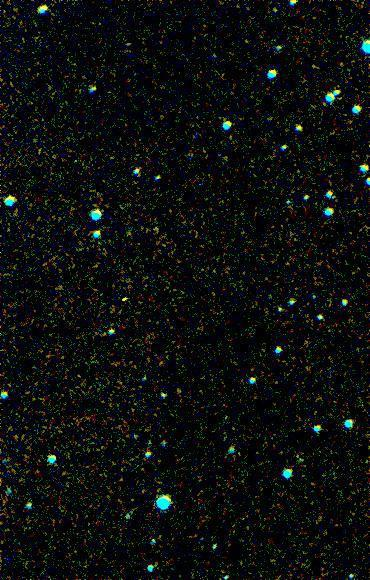star: (108, 281, 138, 311)
